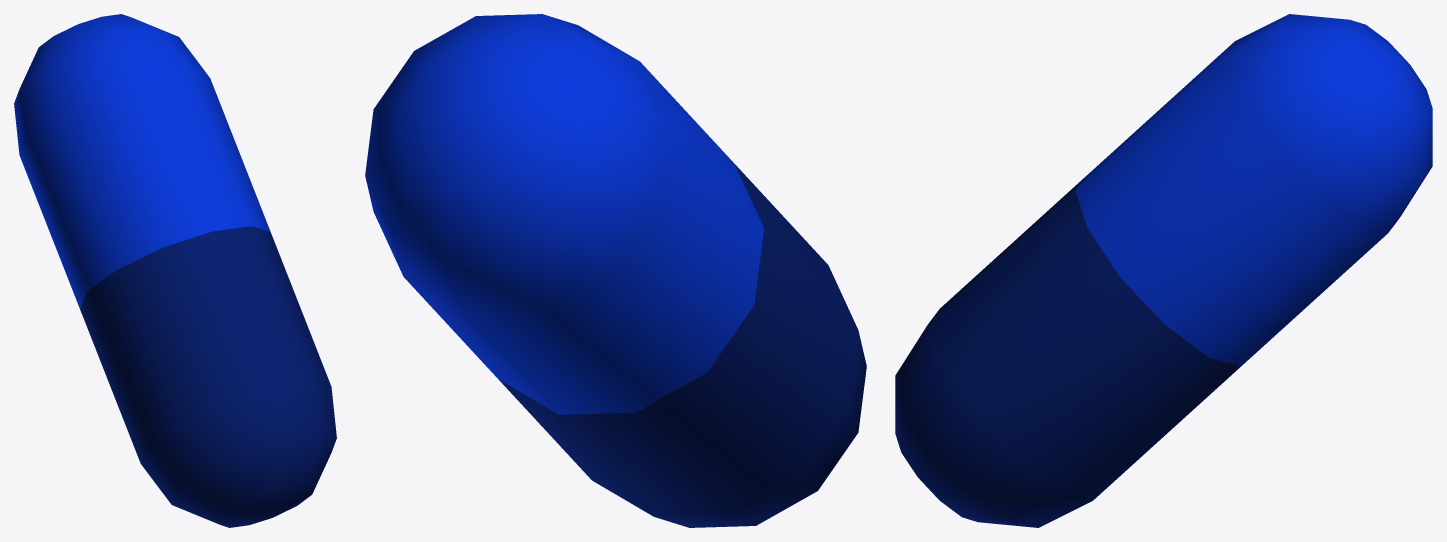
Rendered from Speed_01.FBX.
3 renders of one model, left to right at view 1: azimuth 30°, elevation 25°; view 2: azimuth 150°, elevation 25°; view 3: azimuth 270°, elevation 25°, orthographic. The views are drawn at different scales.
Parts seen in each view (by area): view 1: Speed_01; view 2: Speed_01; view 3: Speed_01.
Part boxes in pixels (x1,y1,x2,y2): Speed_01: (14, 14, 336, 527); Speed_01: (365, 14, 866, 527); Speed_01: (895, 14, 1432, 527).
Bounding box in the file's own units: 15 × 32.17 × 32.17.
